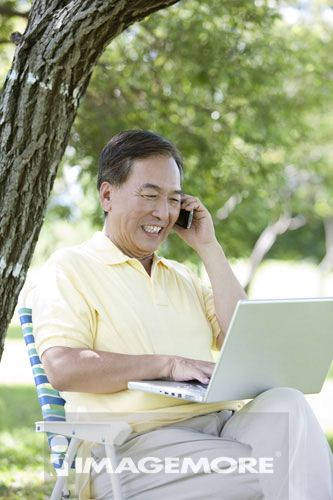talk: (128, 179, 216, 258)
